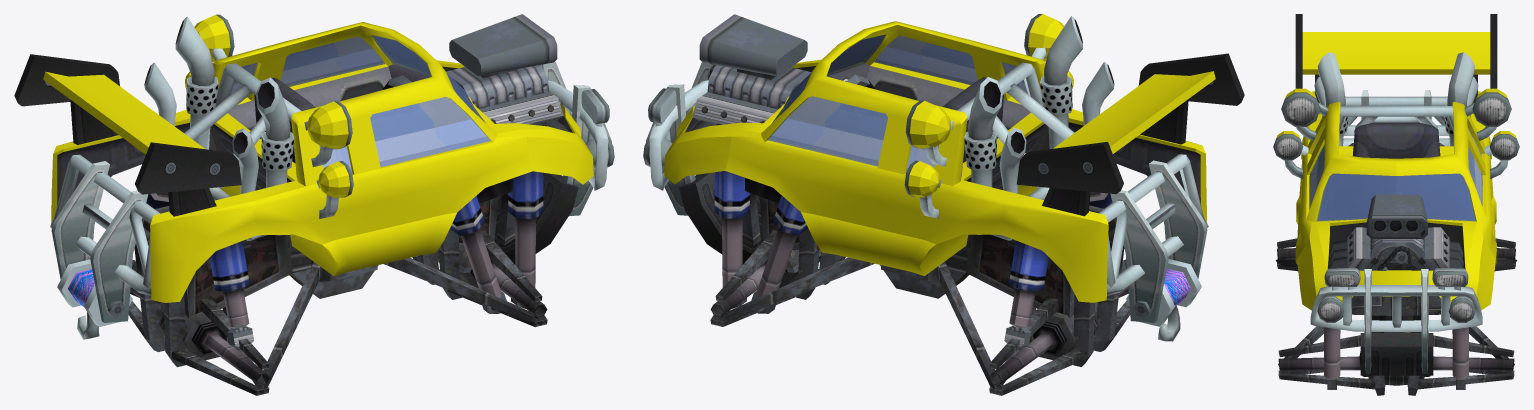
The model's file is chassis_2.glb.
The picture shows the model from 3 angles, left to right: view 1: azimuth 30°, elevation 25°; view 2: azimuth 150°, elevation 25°; view 3: azimuth 270°, elevation 25°; orthographic projection. The views are drawn at different scales.
Visible parts, largest first — view 1: mesh_31_111nr, mesh_32_112nr, mesh_28_105nr, mesh_41_133nr, mesh_17_68nr; view 2: mesh_31_111nr, mesh_32_112nr, mesh_28_105nr, mesh_41_133nr, mesh_17_68nr; view 3: mesh_31_111nr, mesh_32_112nr, mesh_28_105nr, mesh_41_133nr.
Part boxes in pixels (<box>): mesh_31_111nr: <box>14,14,614,367</box>; mesh_32_112nr: <box>43,15,593,302</box>; mesh_28_105nr: <box>128,171,547,395</box>; mesh_41_133nr: <box>230,35,490,173</box>; mesh_17_68nr: <box>68,269,94,306</box>; mesh_31_111nr: <box>643,14,1244,366</box>; mesh_32_112nr: <box>664,14,1215,302</box>; mesh_28_105nr: <box>710,171,1130,395</box>; mesh_41_133nr: <box>768,34,1027,173</box>; mesh_17_68nr: <box>1164,268,1190,306</box>; mesh_31_111nr: <box>1273,14,1519,395</box>; mesh_32_112nr: <box>1276,32,1516,310</box>; mesh_28_105nr: <box>1275,143,1517,389</box>; mesh_41_133nr: <box>1309,127,1482,221</box>.
Size of the model in its own units: 4.49 by 2.44 by 2.27.
Materials: 5 (4 with a texture image).
